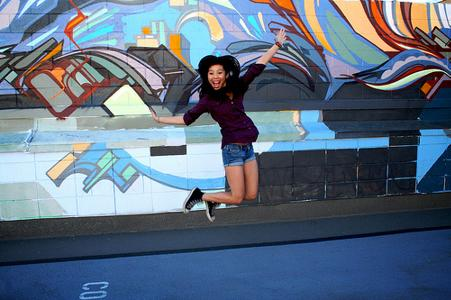person: (150, 27, 288, 224)
